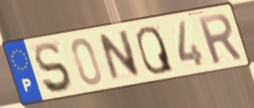0: (71, 36, 104, 87)
4: (175, 19, 206, 68)
N: (97, 27, 143, 84)
Q: (135, 24, 176, 76)
R: (194, 11, 244, 67)
S: (33, 41, 74, 96)
